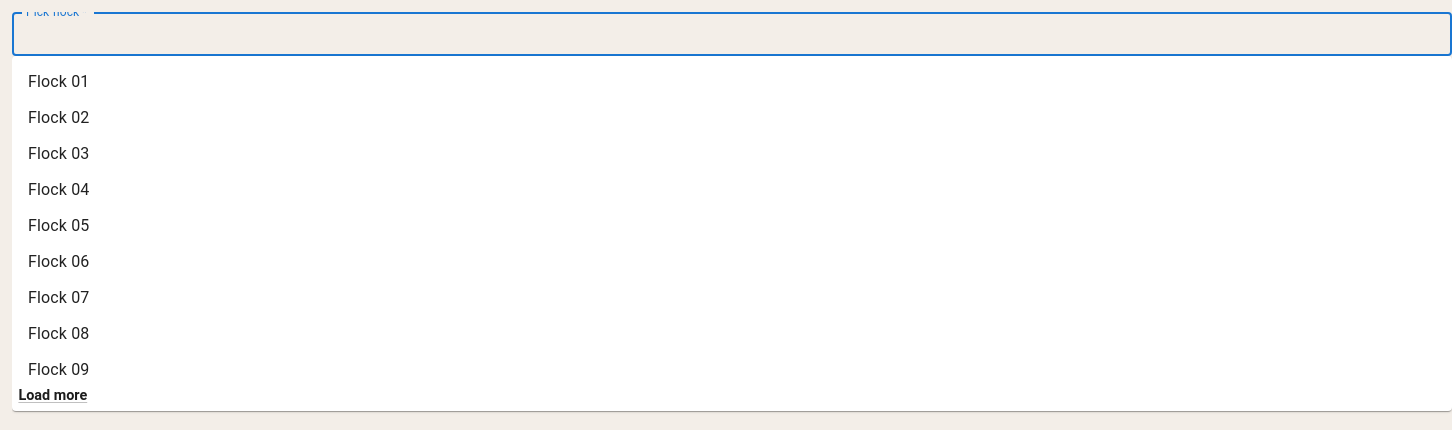
Test: replacement paging (#512 FR-007) › terminates after a final empty page fetched by a second explicit Load more
The image size is (1452, 430).
Expected: the text "Flock 01" is shown, [28,70,90,94]
Click the button "Load more".
click(53, 396)  # box [12,380,94,411]
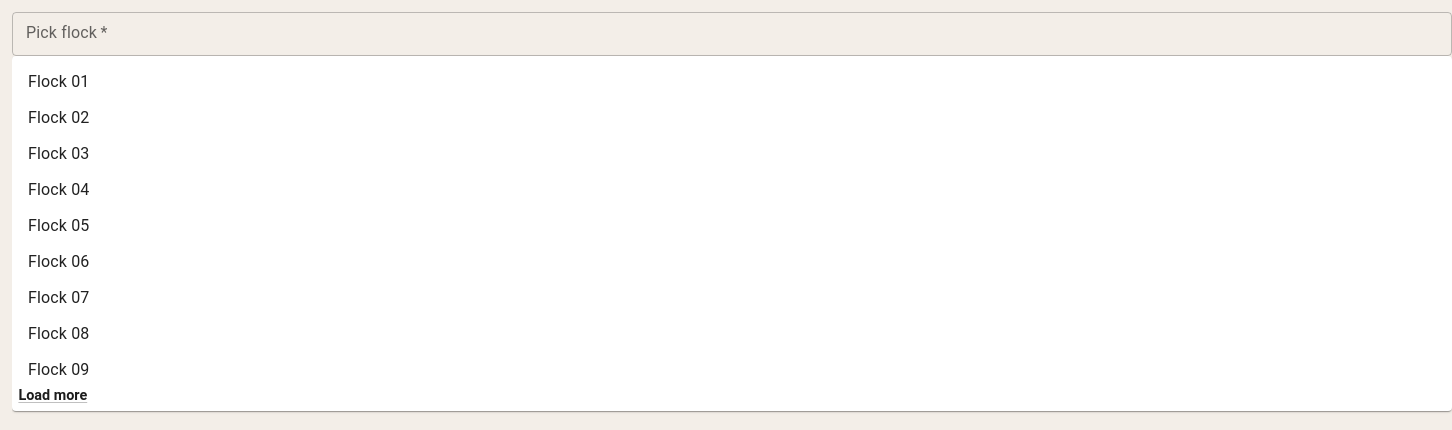
Click the button "Load more".
click(53, 396)  # box [12,380,94,411]
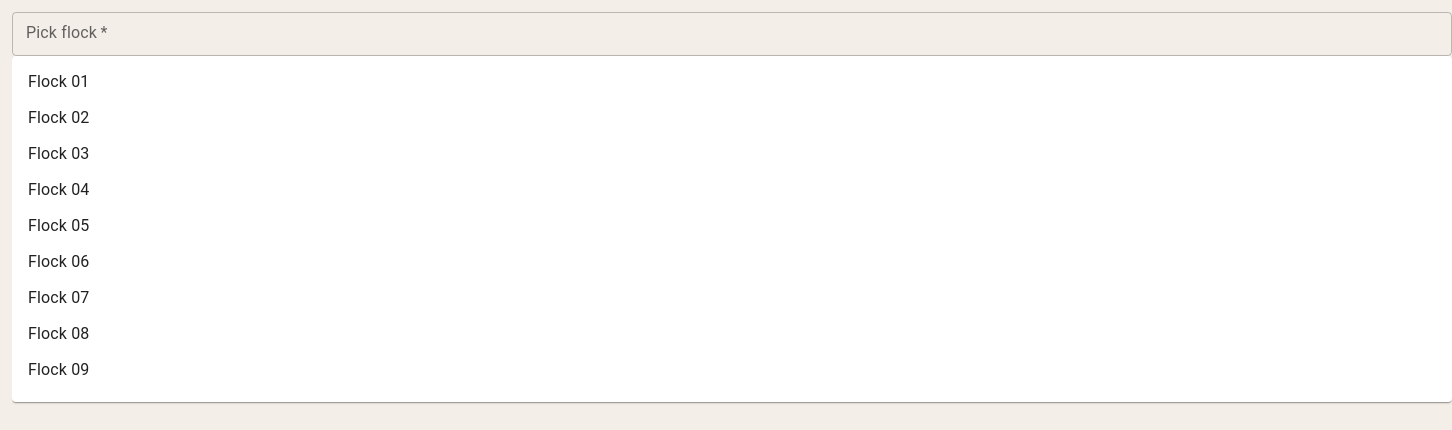
Now the button "Load more" is gone
